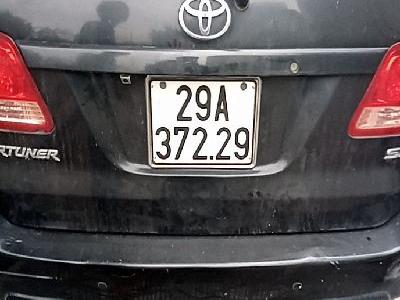car: (146, 77, 262, 168)
